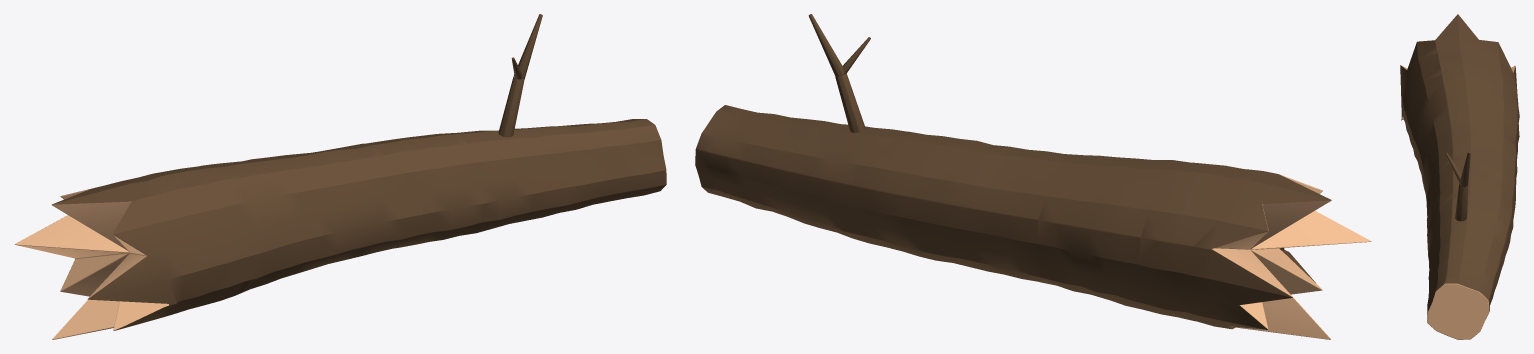
File: TroncoConRama.glb
The picture shows the model from 3 angles, left to right: view 1: azimuth 30°, elevation 25°; view 2: azimuth 150°, elevation 25°; view 3: azimuth 270°, elevation 25°; orthographic projection. The views are drawn at different scales.
Visible parts, largest first — view 1: Wooden_Log, Wooden_Branch; view 2: Wooden_Log, Wooden_Branch; view 3: Wooden_Log, Wooden_Branch.
Part boxes in pixels (<box>): Wooden_Log: <box>14,119,666,339</box>; Wooden_Branch: <box>498,14,542,137</box>; Wooden_Log: <box>695,105,1371,339</box>; Wooden_Branch: <box>808,14,870,132</box>; Wooden_Log: <box>1400,14,1519,339</box>; Wooden_Branch: <box>1446,151,1470,221</box>.
Size of the model in its own units: 1.4 by 0.4466 by 0.3141.
